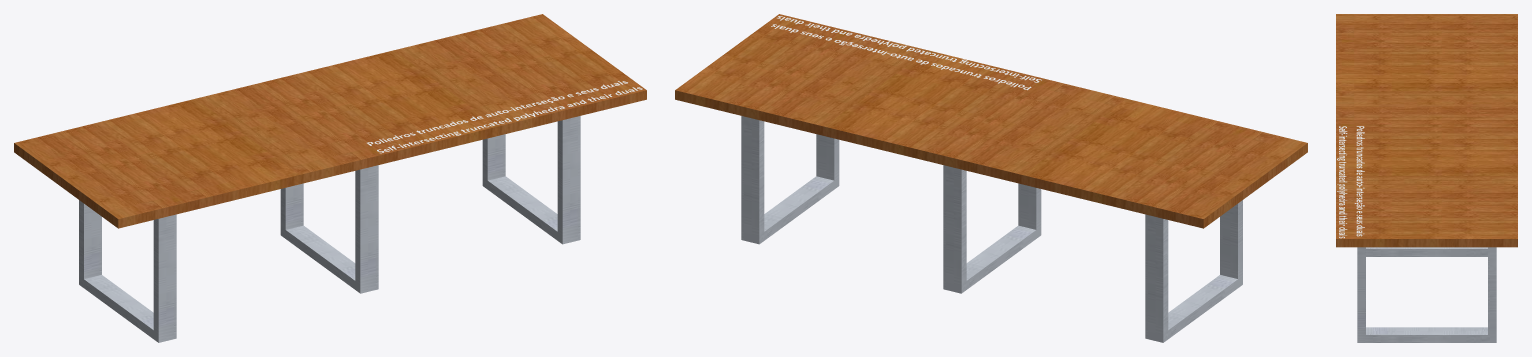
File: selfinterTrunc6.glb
3 renders of one model, left to right at view 1: azimuth 30°, elevation 25°; view 2: azimuth 150°, elevation 25°; view 3: azimuth 270°, elevation 25°, orthographic. The views are drawn at different scales.
Visible parts, largest first — view 1: object 1, Composant#1 (×3), Poliedros trunca; view 2: object 1, Composant#1 (×3), Poliedros trunca; view 3: object 1, Composant#1 (×2), Poliedros trunca.
Boxes of the visible parts, bbox=[...] form: object 1: bbox=[14, 14, 646, 228]; Composant#1 (×3): bbox=[79, 116, 580, 342]; Poliedros trunca: bbox=[367, 81, 642, 153]; object 1: bbox=[675, 14, 1307, 228]; Composant#1 (×3): bbox=[741, 116, 1242, 342]; Poliedros trunca: bbox=[771, 16, 1041, 90]; object 1: bbox=[1336, 14, 1517, 247]; Composant#1 (×2): bbox=[1357, 247, 1496, 342]; Poliedros trunca: bbox=[1337, 126, 1364, 238].
Size of the model in its own units: 2.93 by 0.7711 by 1.
3 materials, 2 textured.
